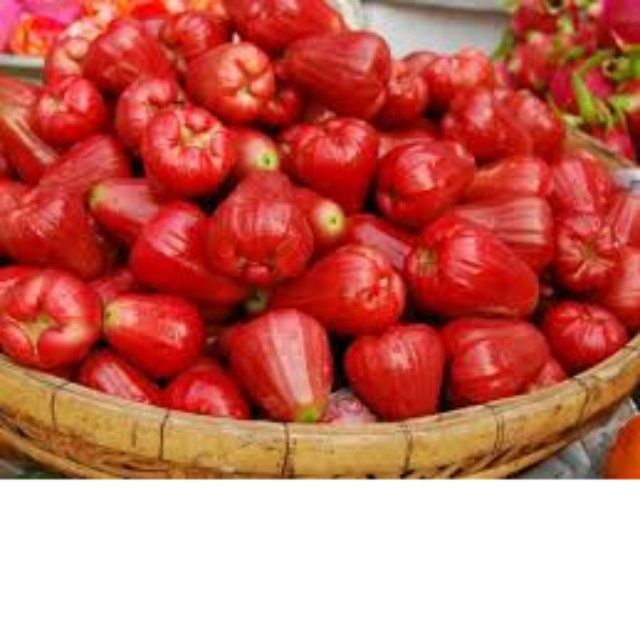xoai: (213, 152, 320, 290), (218, 304, 334, 417), (333, 330, 464, 426), (417, 217, 538, 319), (285, 237, 406, 330), (282, 25, 397, 119), (386, 124, 477, 226), (134, 106, 233, 197), (102, 294, 198, 375)
